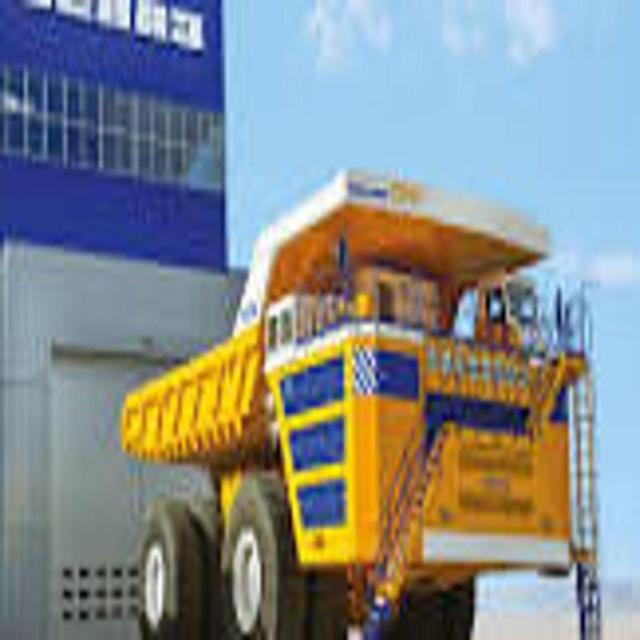dump_truck: (116, 164, 611, 640)
